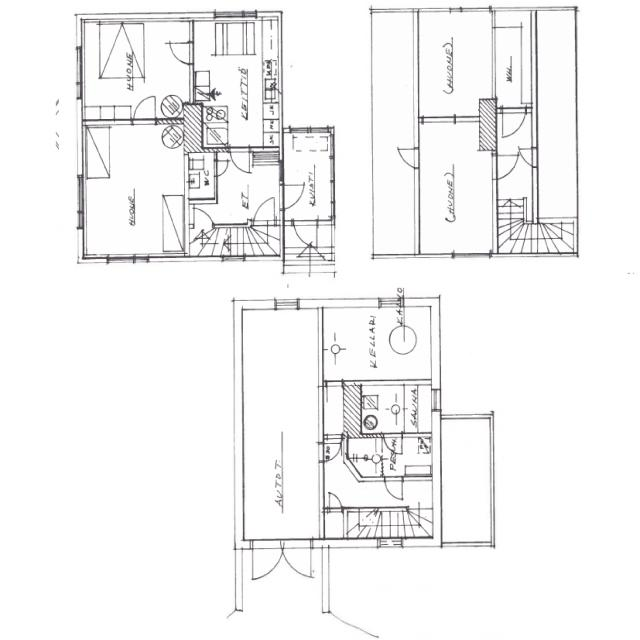door: (282, 539, 312, 579), (253, 539, 282, 579), (294, 220, 316, 249), (133, 95, 155, 124), (502, 108, 524, 137), (492, 156, 519, 178), (278, 186, 304, 208), (253, 198, 274, 225), (230, 146, 250, 171), (170, 42, 193, 63), (397, 149, 420, 168), (194, 204, 212, 228), (516, 148, 538, 166), (384, 433, 401, 456), (385, 477, 402, 500), (319, 444, 340, 462), (326, 433, 342, 453), (327, 380, 342, 401), (214, 160, 232, 176), (329, 493, 342, 512)
